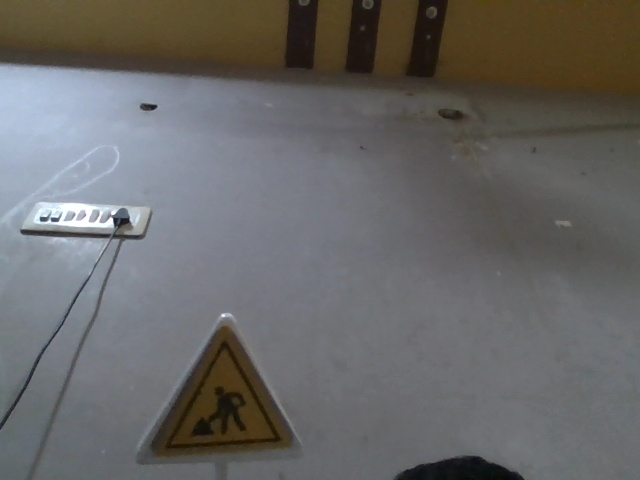workinprogress: (148, 311, 296, 475)
